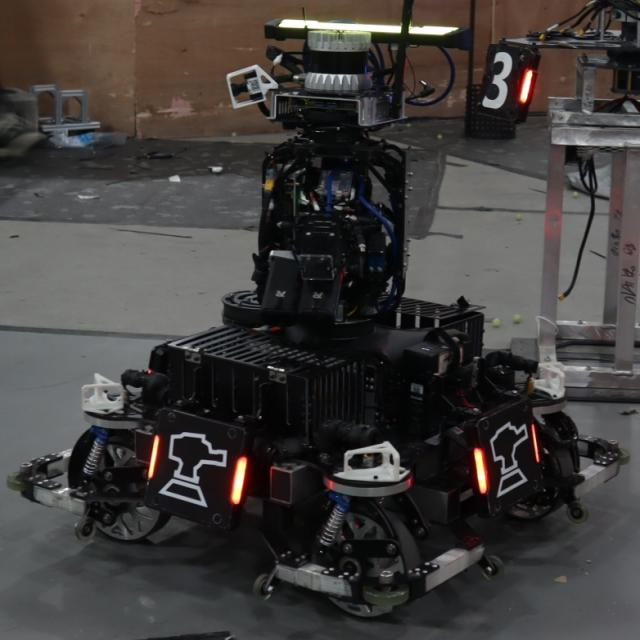R3: (480, 47, 534, 112)
Rs: (147, 413, 247, 519), (476, 414, 544, 498)
